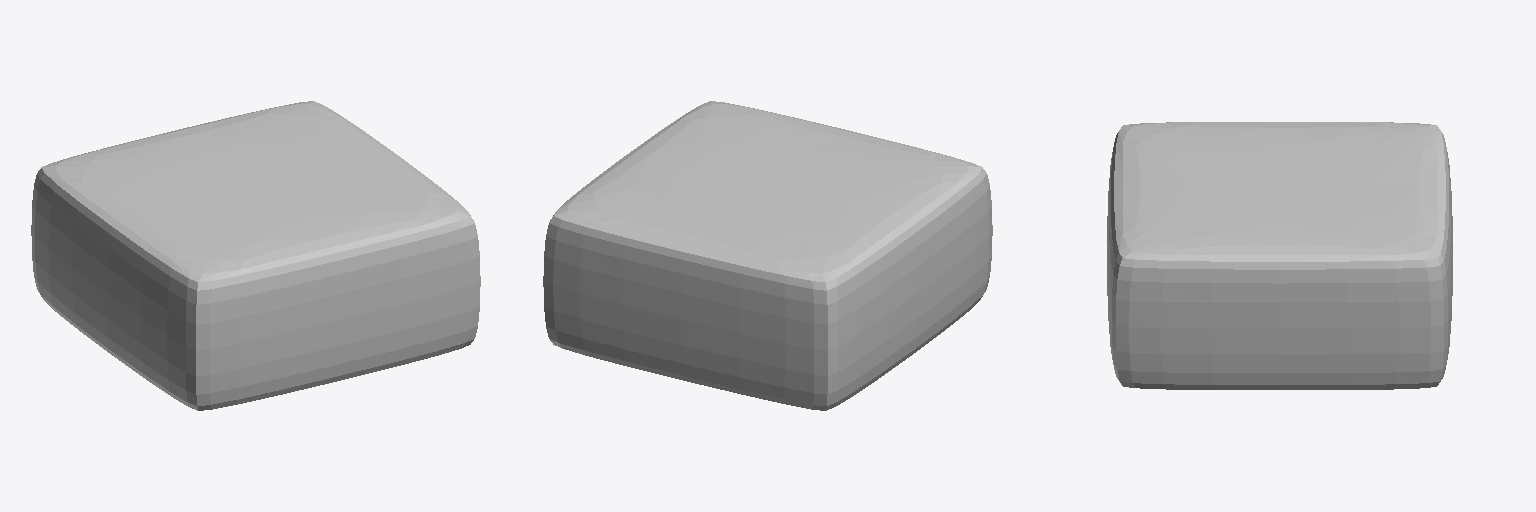
The model's file is NewBlock.obj.
3 views of the same model, side by side, from view 1: azimuth 30°, elevation 25°; view 2: azimuth 150°, elevation 25°; view 3: azimuth 270°, elevation 25° (orthographic).
Visible parts, largest first — view 1: Cube2; view 2: Cube2; view 3: Cube2.
Part boxes in pixels (x1,y1,x2,y2): Cube2: (31, 101, 480, 410); Cube2: (543, 101, 992, 410); Cube2: (1107, 122, 1452, 389).
Size of the model in its own units: 2.1 by 0.9478 by 2.1.